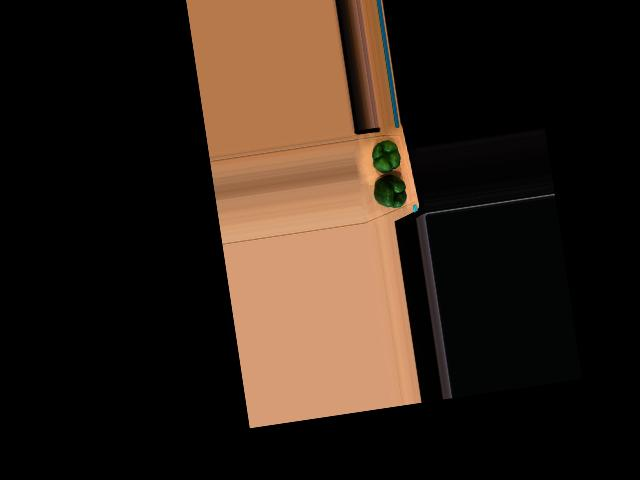bell_pepper: (366, 139, 402, 176)
